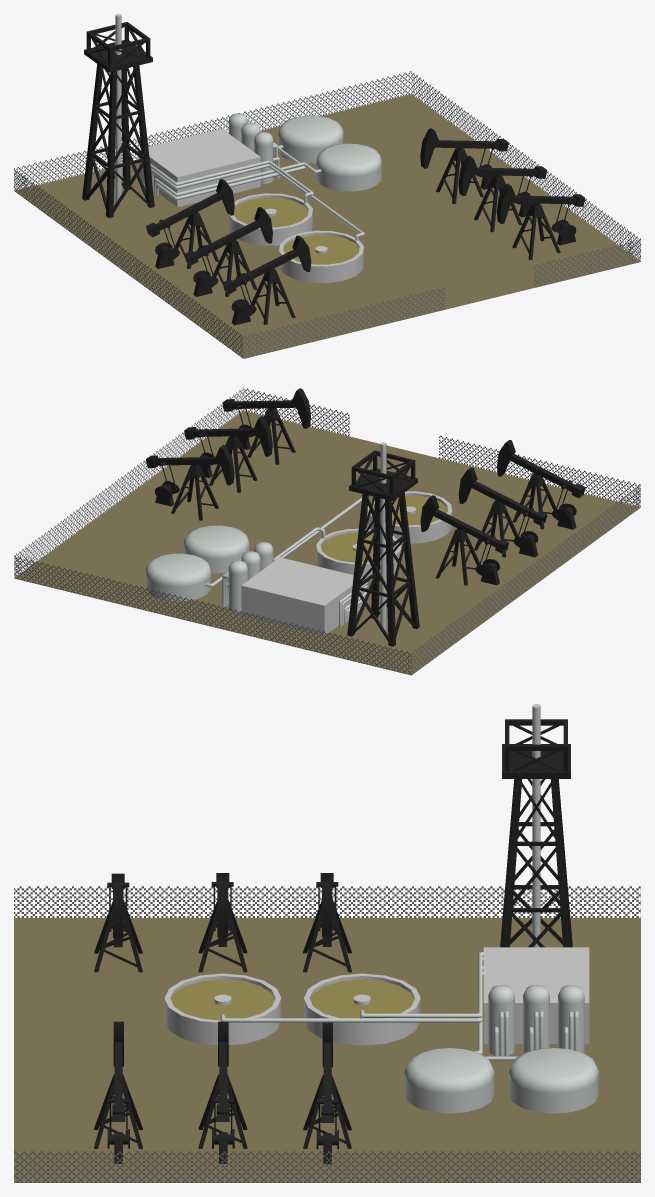
Rendered from OilPump.fbx.
3 renders of one model, top to bottom at view 1: azimuth 30°, elevation 25°; view 2: azimuth 150°, elevation 25°; view 3: azimuth 270°, elevation 25°, orthographic. The views are drawn at different scales.
Parts seen in each view (by area): view 1: OilPump; view 2: OilPump; view 3: OilPump.
Part boxes in pixels (x1,y1,x2,y2): OilPump: (14,14,640,358); OilPump: (14,388,640,675); OilPump: (14,704,640,1182).
Bounding box in the file's own units: 1800 × 814 × 1800.
